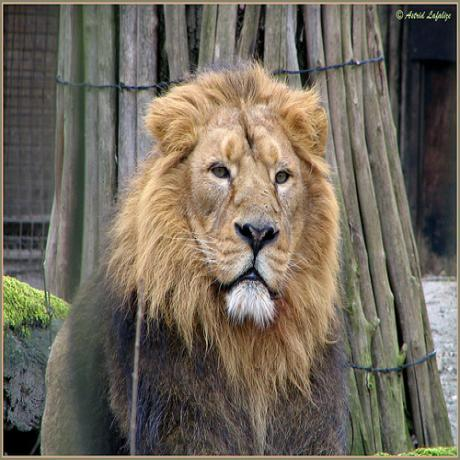Lion: (40, 62, 352, 460)
